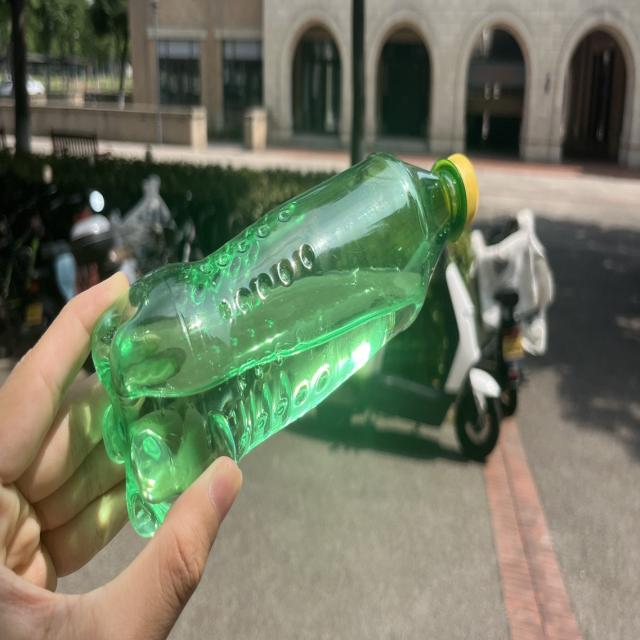medium: (92, 154, 477, 535)
